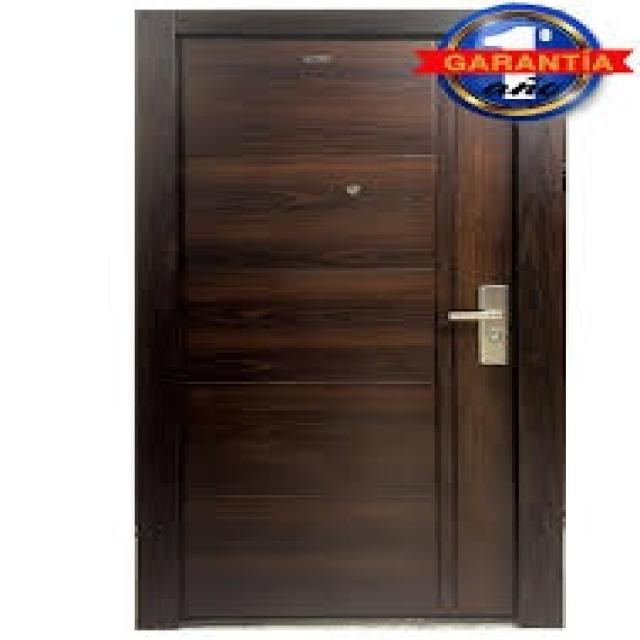door: (135, 9, 562, 629)
